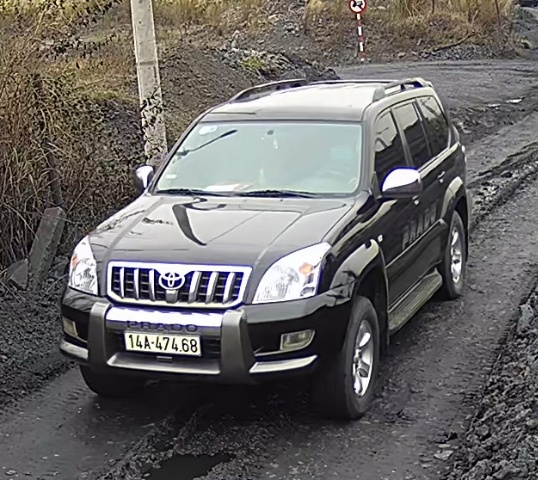vehicle plate: (118, 327, 204, 357)
